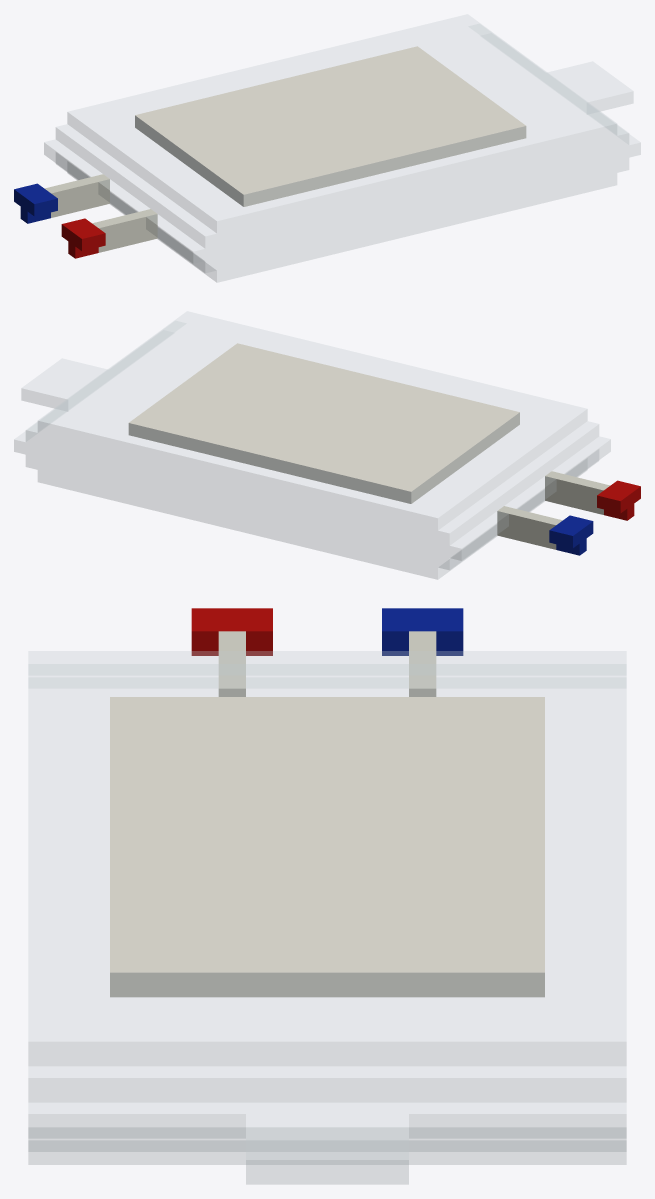
File: saline.glb
The picture shows the model from 3 angles, top to bottom: view 1: azimuth 30°, elevation 25°; view 2: azimuth 150°, elevation 25°; view 3: azimuth 270°, elevation 25°; orthographic projection. The views are drawn at different scales.
Visible parts, largest first — view 1: saline:compound; view 2: saline:compound; view 3: saline:compound.
Part boxes in pixels (<box>): saline:compound: <box>14,14,640,282</box>; saline:compound: <box>14,311,640,579</box>; saline:compound: <box>28,608,626,1184</box>.
Bounding box in the file's own units: 0.192 × 0.02 × 0.088.
